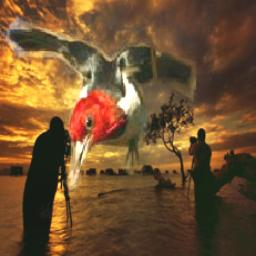Woodpecker: (0, 13, 197, 197)
